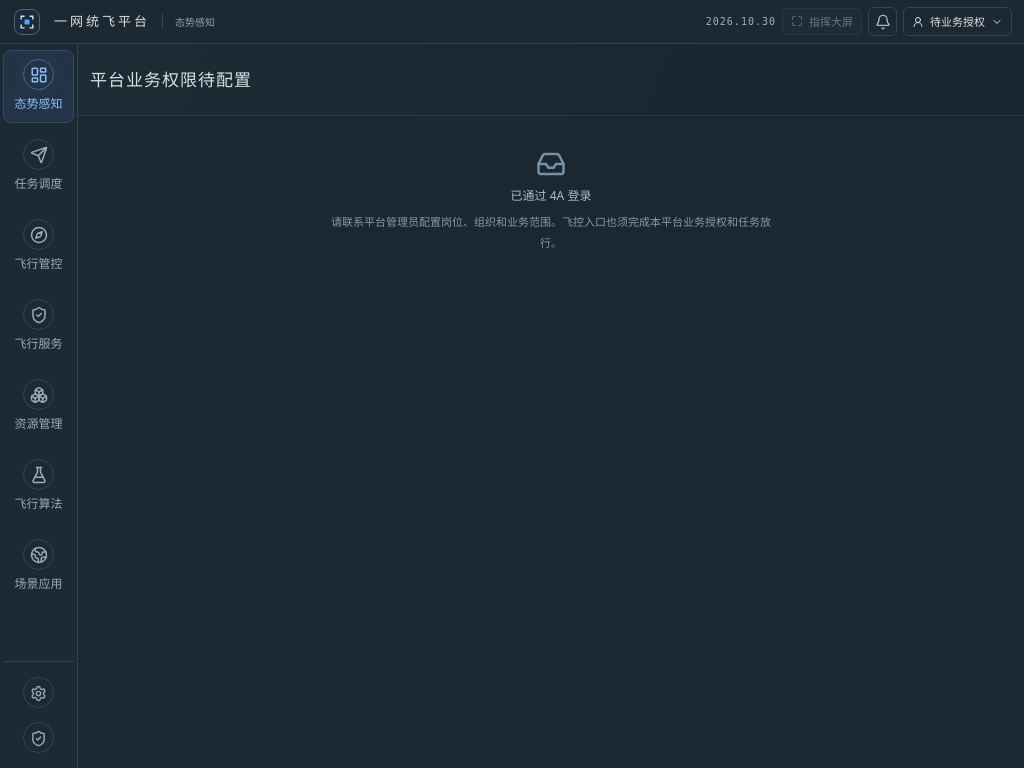
Test: application authentication integration › requires platform business permission before task-gated flight entry
Expected: the text "已通过 4A 登录" is shown, [511, 186, 591, 205]
Click the button "待业务授权" at x=958, y=22, box [903, 7, 1012, 36]
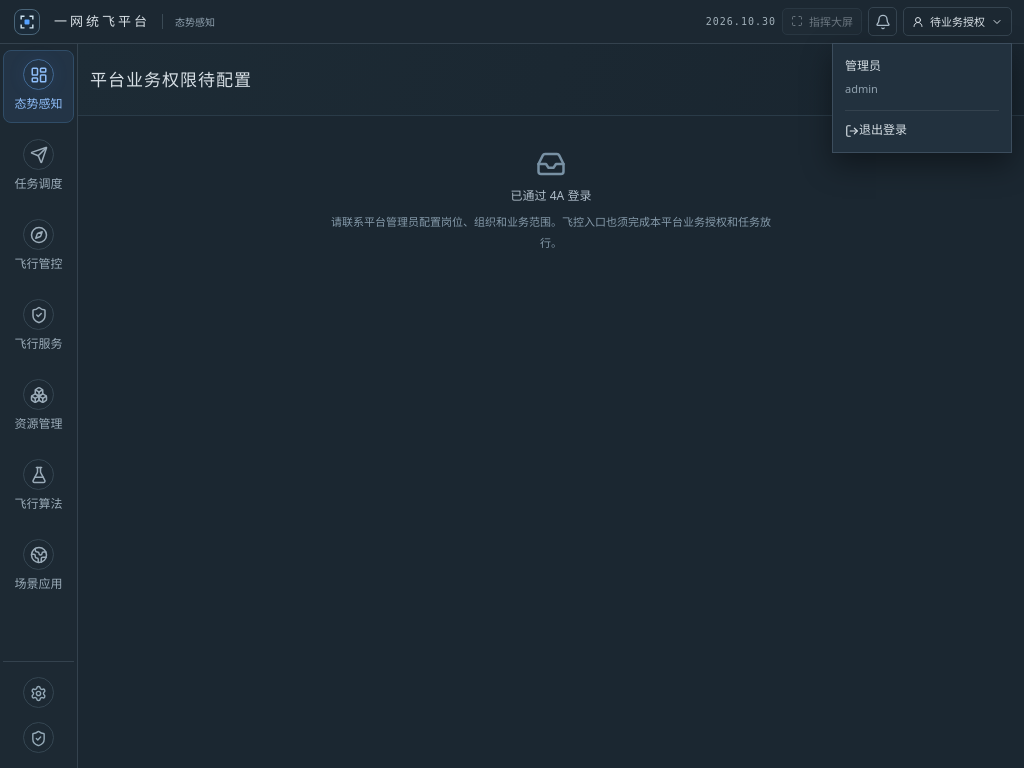
Expected: the button "权限管理" is not shown
Click the button "飞行管控" at x=38, y=246, box [3, 210, 74, 283]
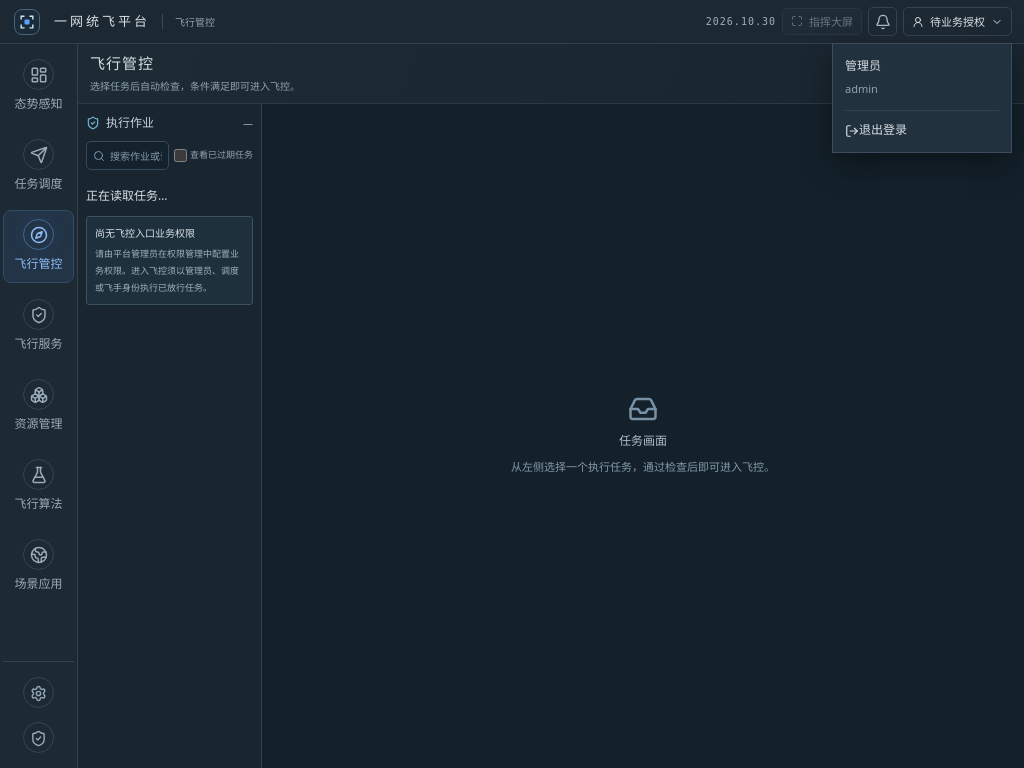
Expected: the text "尚无飞控入口业务权限" is shown, [95, 226, 195, 240]
